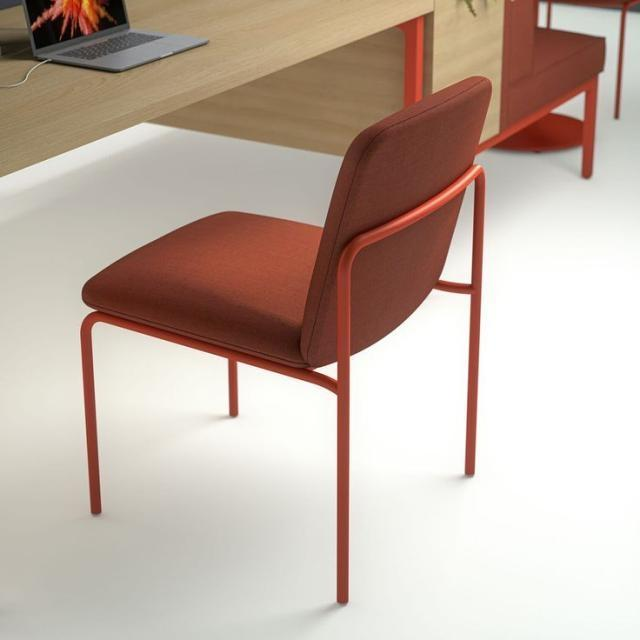obstacle: (79, 73, 492, 604), (0, 0, 435, 176)
